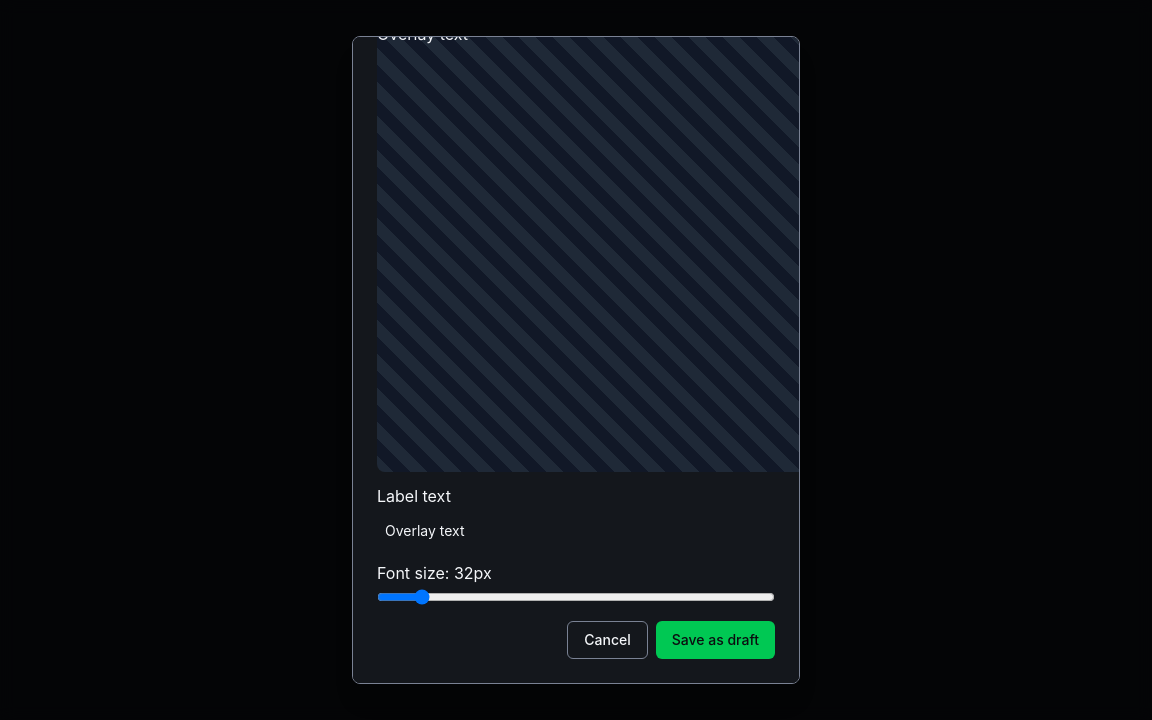
Test: OverlayEditorDialog › Surfaces a validation error when the name is blank
The image size is (1152, 720).
(page scrolled)
Click the button "Save as draft": coordinates (715, 640) [656,621,775,659]
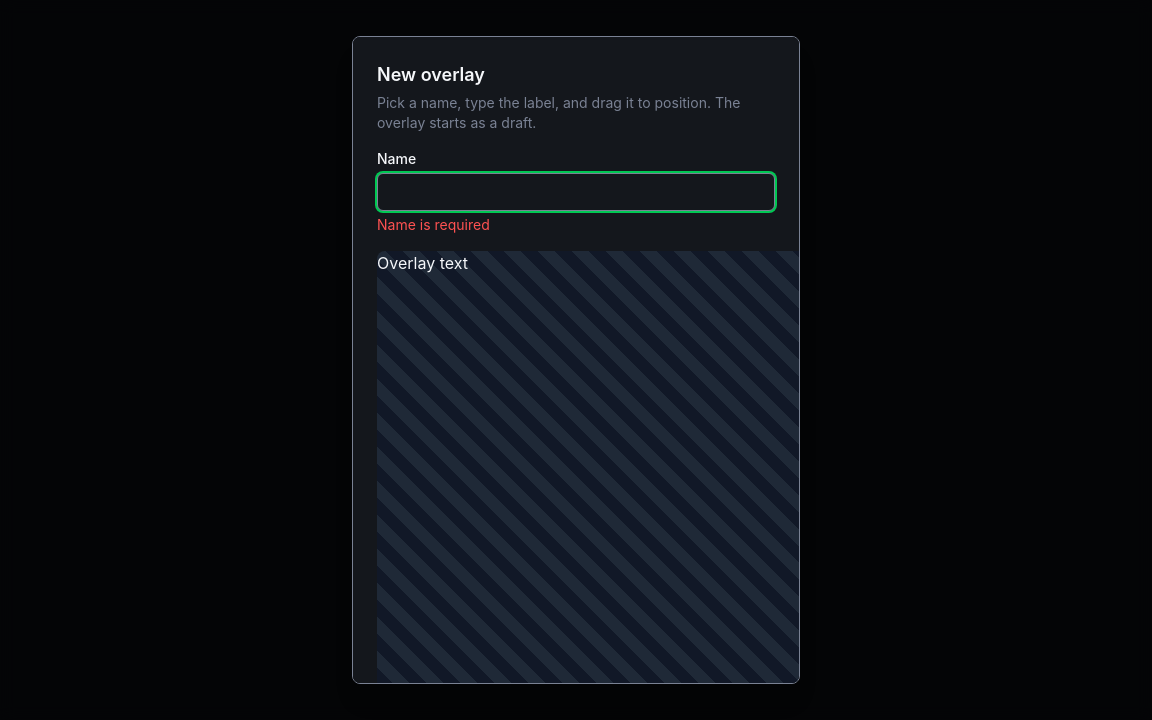
Expected: the text "Name is required" is shown, [377,216,490,233]
